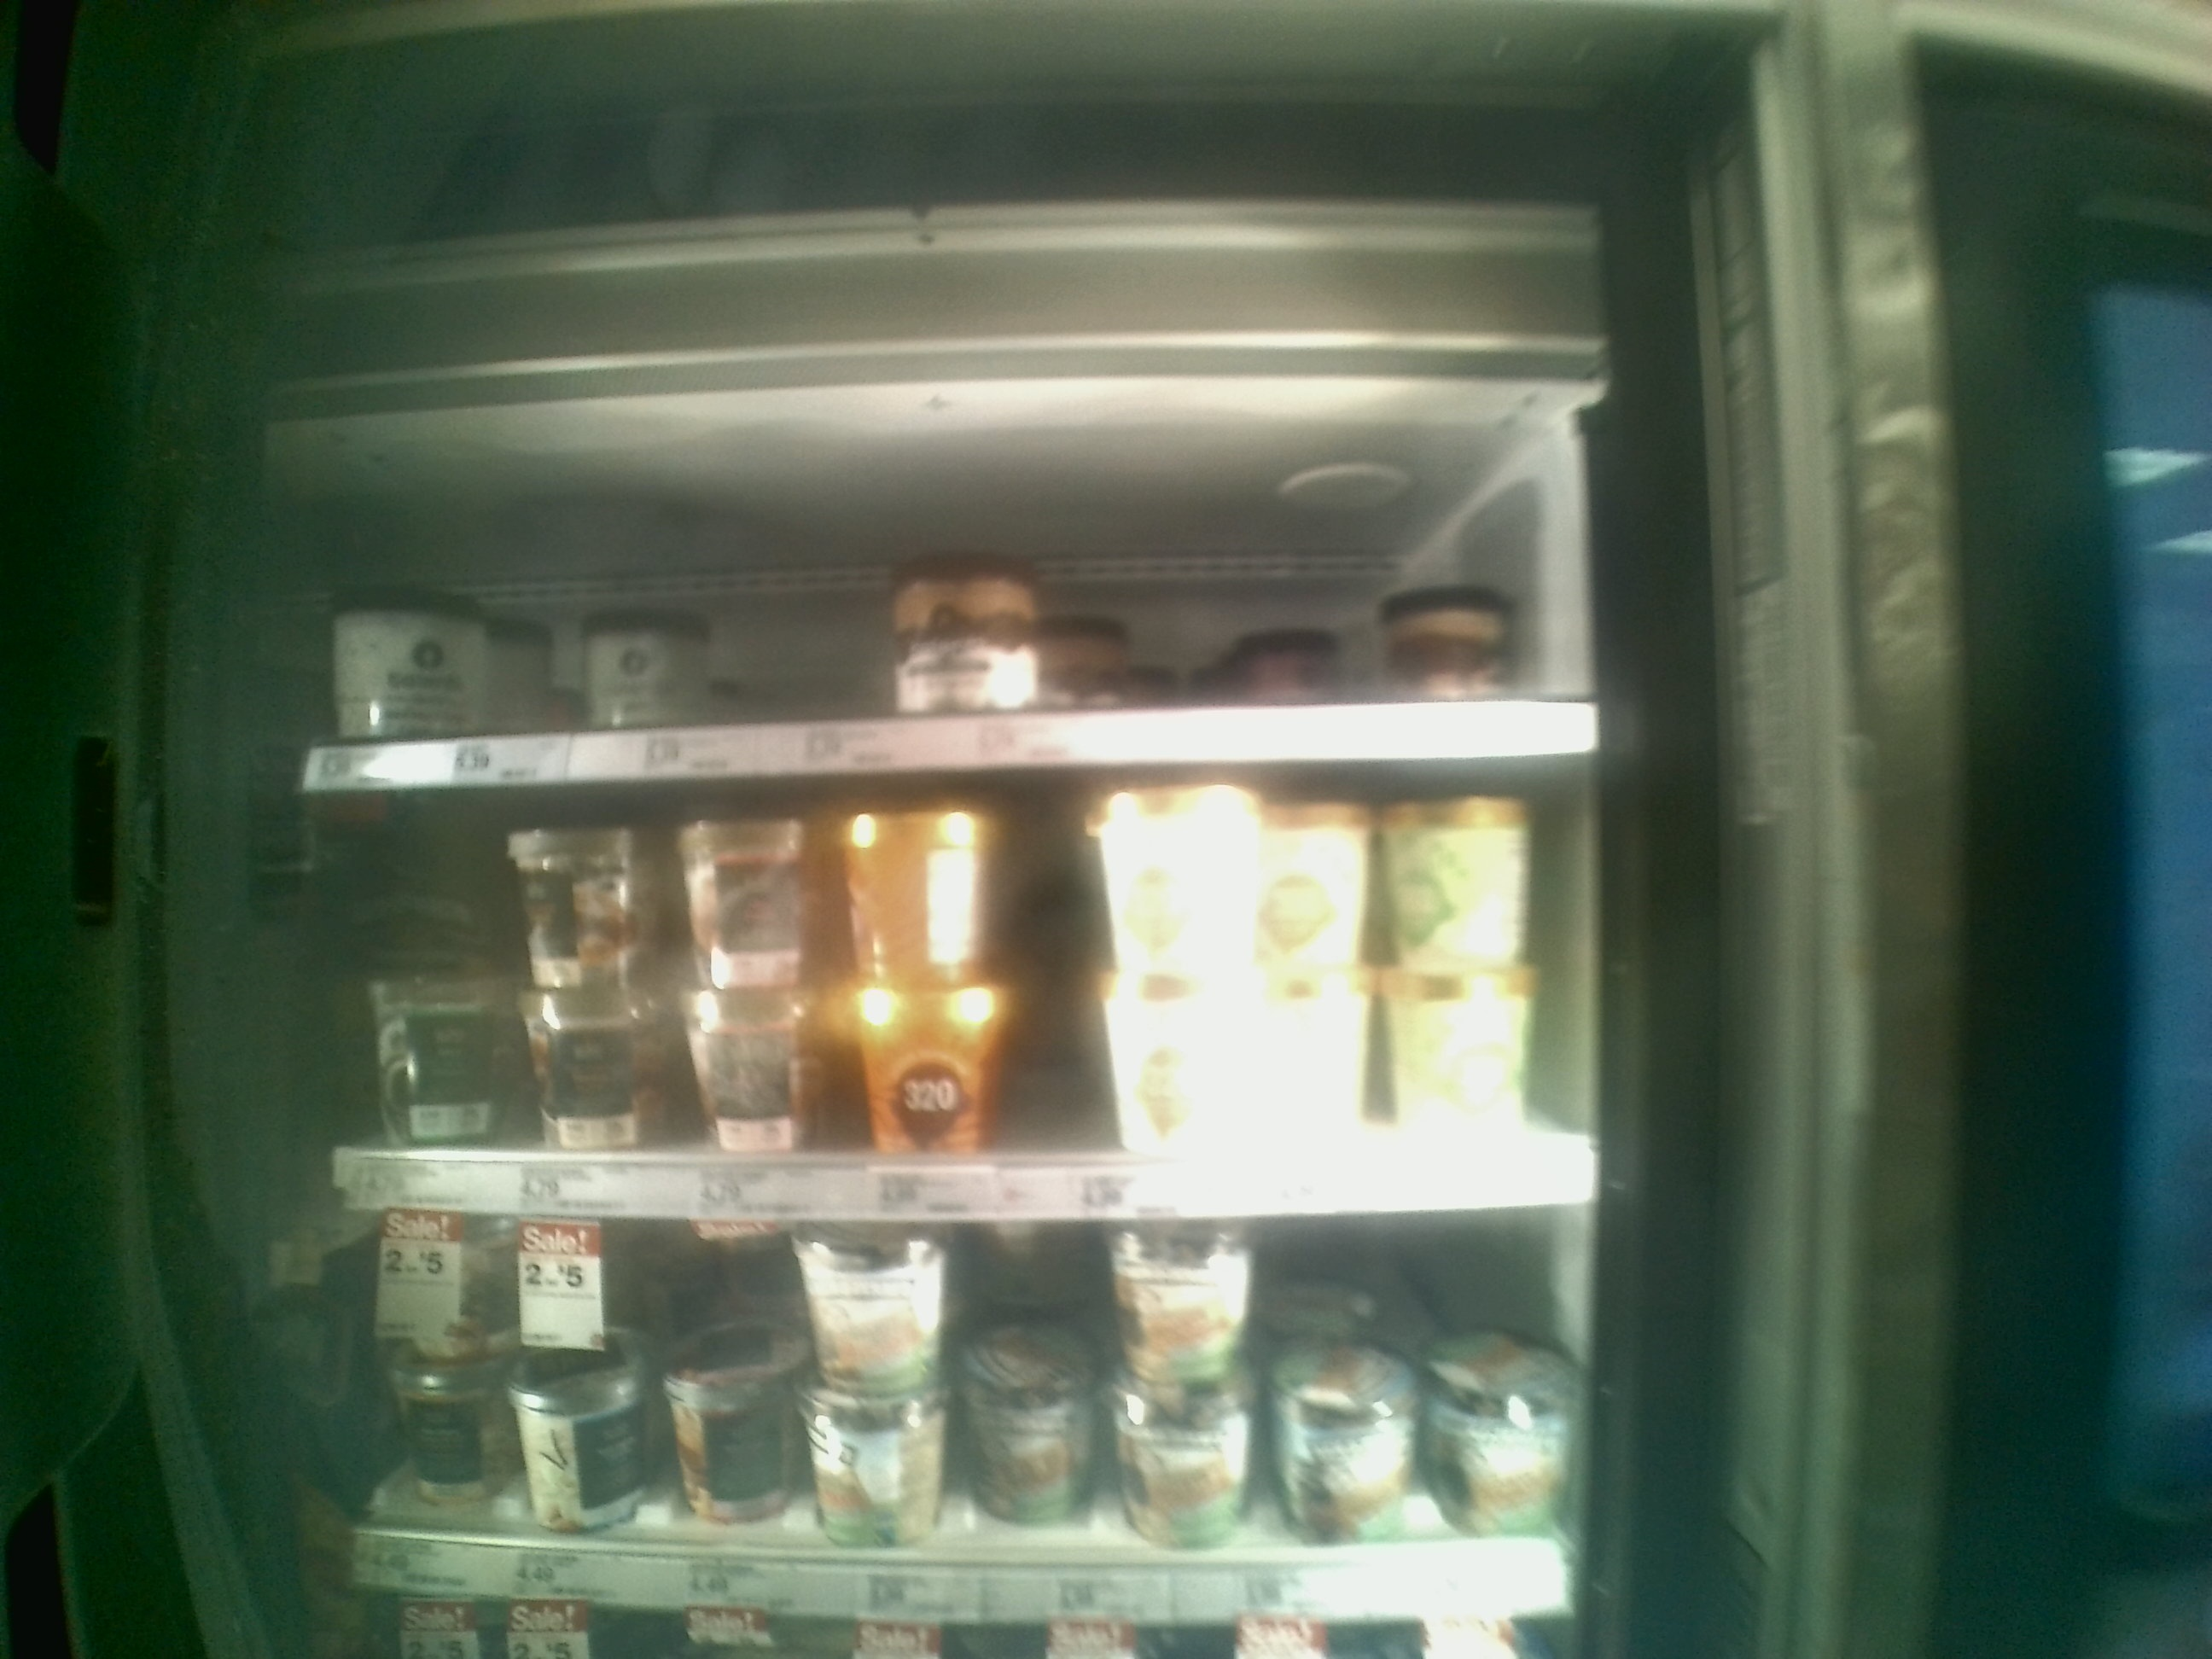ice-cream-shelf: (361, 1208, 1578, 1622), (296, 437, 1587, 753)
